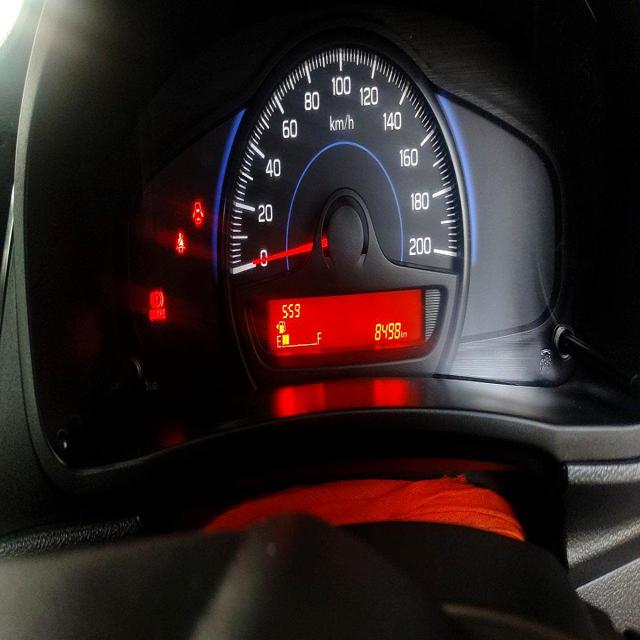odometer: (372, 319, 401, 342)
